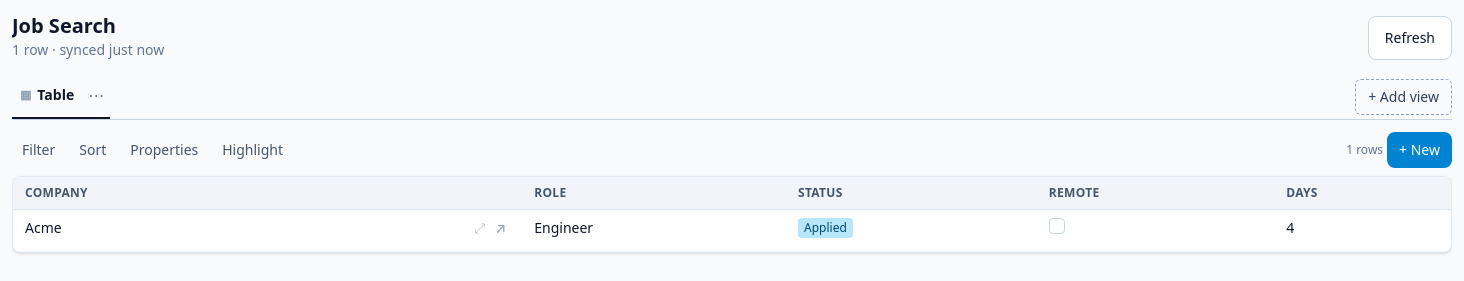
Test: DatabaseView editing › desktop: click a cell, edit inline, and save to the API
Click the cell named "Edit Role" at (654, 231), box [522, 210, 786, 252]
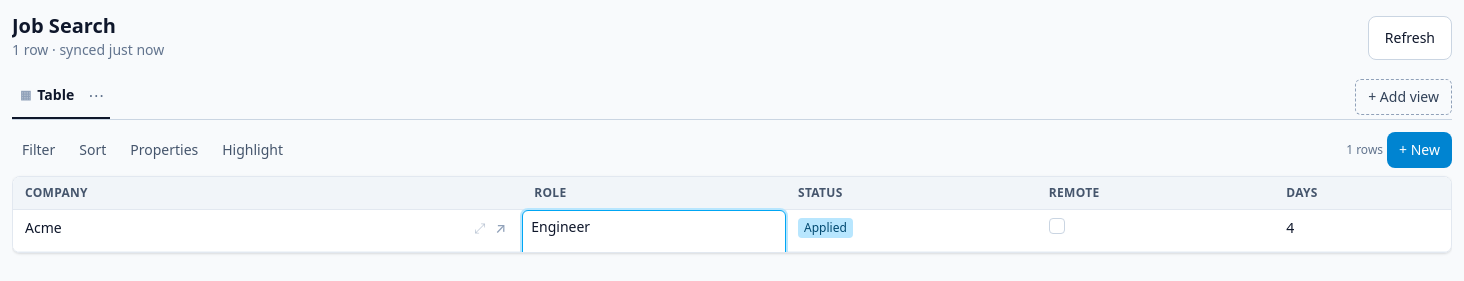
Replace the text in the text box named "Role" with "Lead" at (654, 237), box [522, 210, 786, 264]
Then press Enter
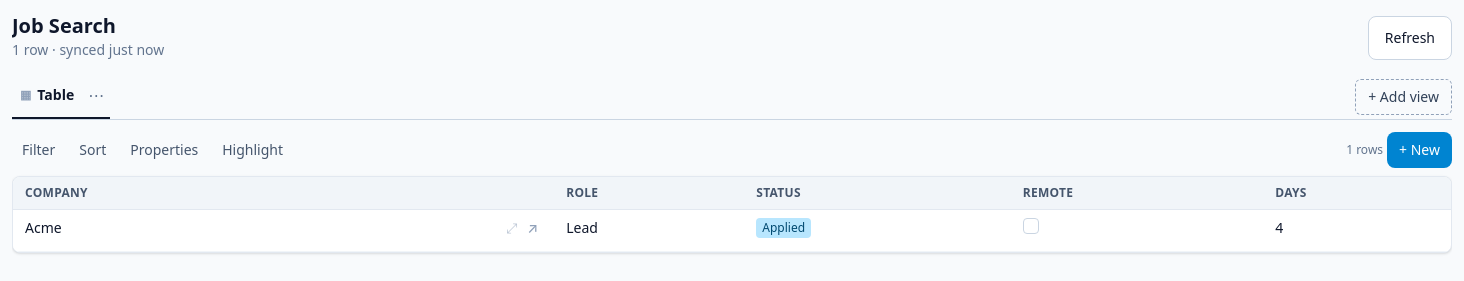
Expected: the text "Lead" is shown, [566, 218, 598, 237]
